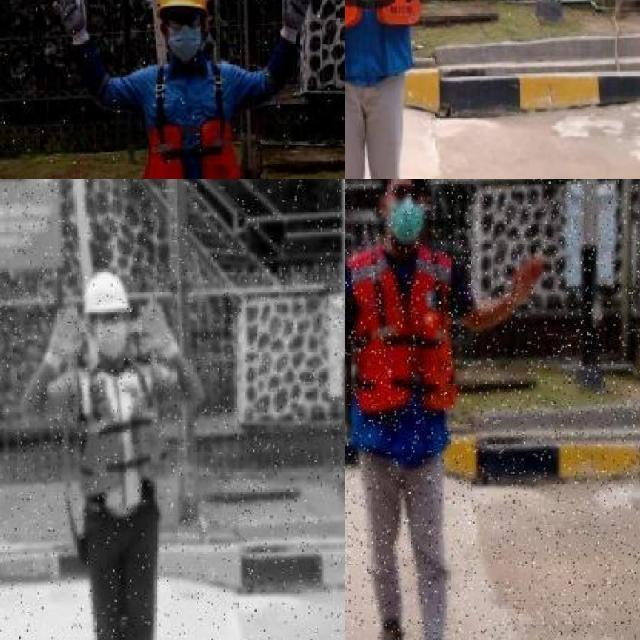apron: (133, 302, 181, 365), (42, 306, 85, 376), (275, 0, 315, 47), (51, 0, 91, 47)
